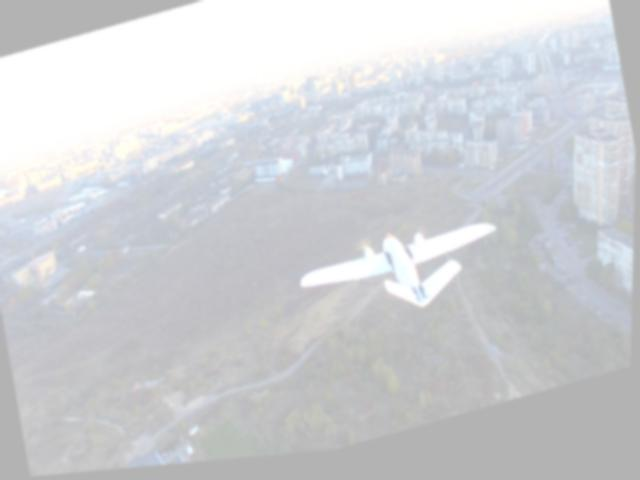plane: (297, 212, 510, 346)
